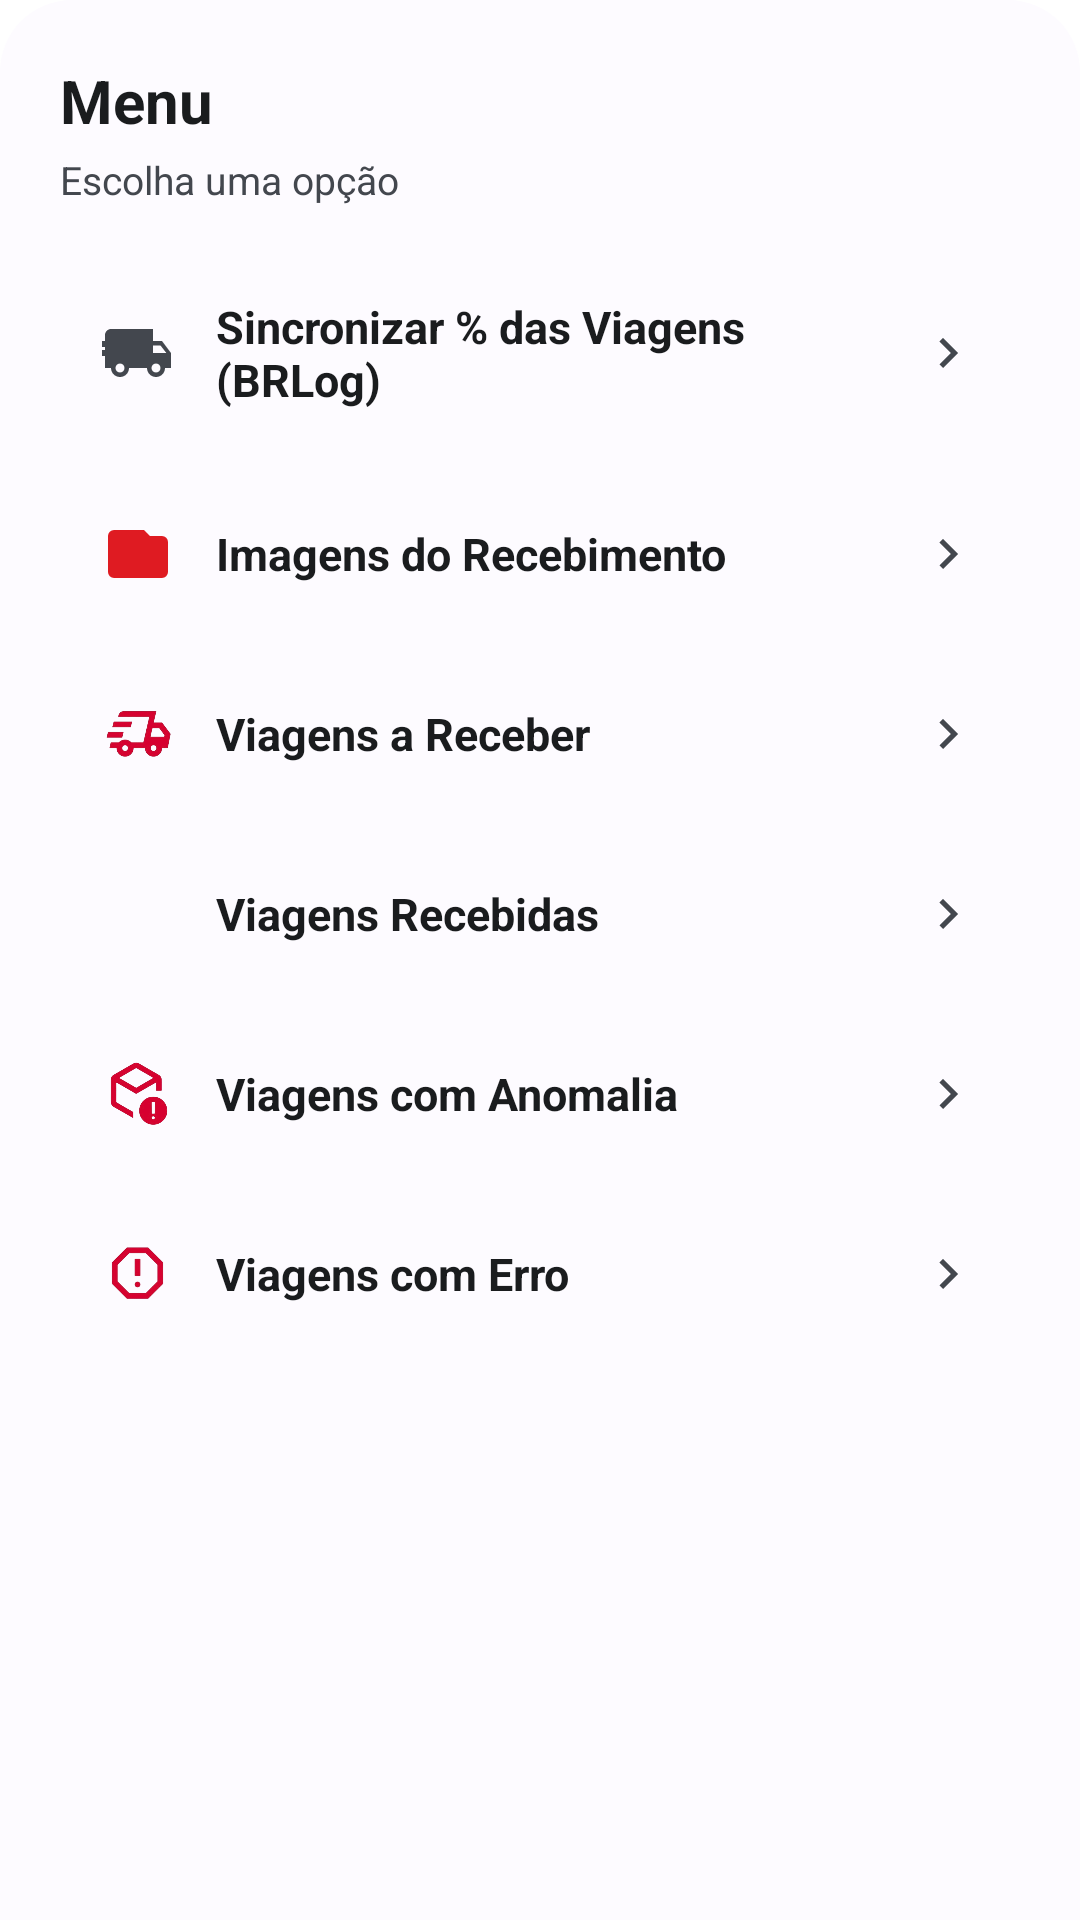

Screen size 1080w x 1920h. Icon name, then its box in pixels as (x1, y1, x2, y2):
chevron right: (939, 338, 958, 368), (939, 539, 958, 569), (939, 719, 958, 749), (939, 899, 958, 929), (939, 1079, 958, 1109), (939, 1259, 958, 1289)
folder: (108, 530, 168, 578)
